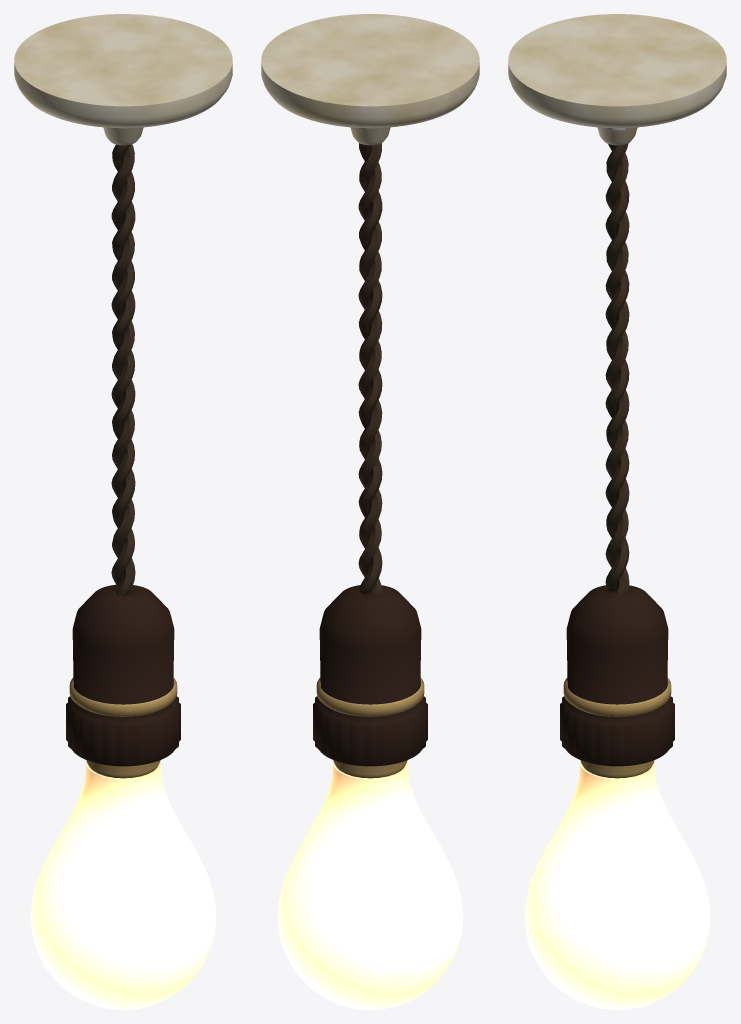
The model's file is PH_Bulb.fbx.
3 views of the same model, side by side, from view 1: azimuth 30°, elevation 25°; view 2: azimuth 150°, elevation 25°; view 3: azimuth 270°, elevation 25° (orthographic).
Visible parts, largest first — view 1: PH_Bulb; view 2: PH_Bulb; view 3: PH_Bulb.
Boxes of the visible parts, <box> form: PH_Bulb: <box>14,14,232,1009</box>; PH_Bulb: <box>261,14,479,1009</box>; PH_Bulb: <box>508,14,726,1009</box>.
Bounding box in the file's own units: 0.08 × 0.38 × 0.08.
